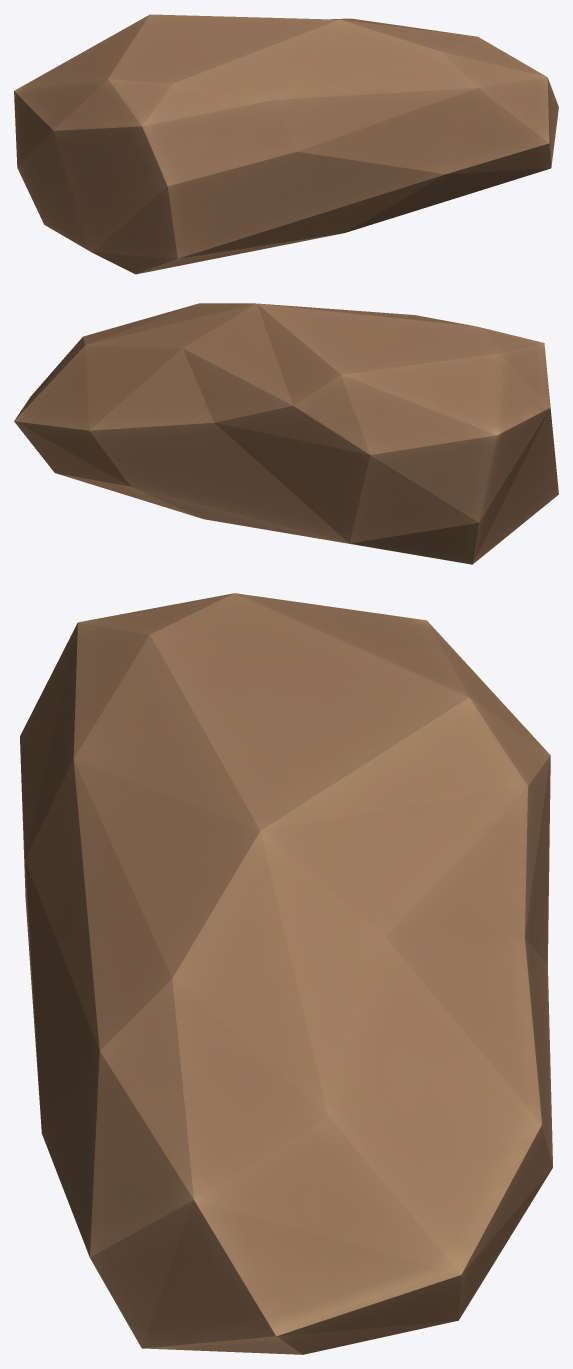
File: Rock_10.fbx
The picture shows the model from 3 angles, top to bottom: view 1: azimuth 30°, elevation 25°; view 2: azimuth 150°, elevation 25°; view 3: azimuth 270°, elevation 25°; orthographic projection. The views are drawn at different scales.
Parts seen in each view (by area): view 1: Rock_10; view 2: Rock_10; view 3: Rock_10.
Part boxes in pixels (x1,y1,x2,y2): Rock_10: (14,14,558,274); Rock_10: (14,303,558,564); Rock_10: (20,593,552,1354).
Bounding box in the file's own units: 56.02 × 18.24 × 25.3.
